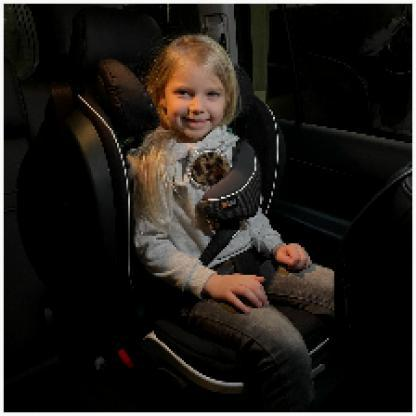child: (126, 36, 336, 413)
